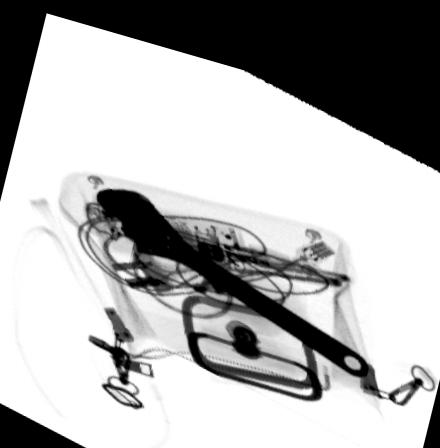Wrench: (91, 180, 370, 358)
